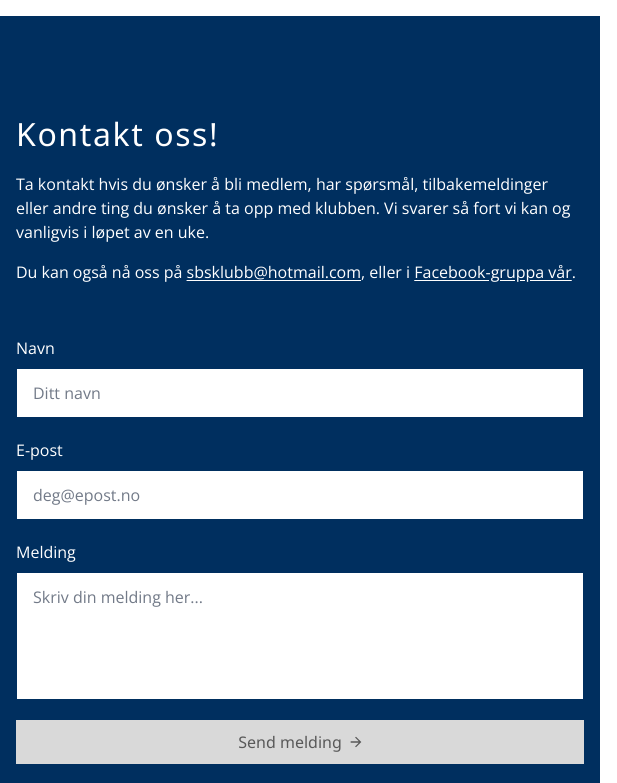
Test: ContactSection › sends the trimmed values and shows the success notice on a valid submit
This screenshot has width=617, height=783.
Type "  Ola Nordmann  " into the field with placeholder "Ditt navn" at (300, 393), box [16,368,584,418]
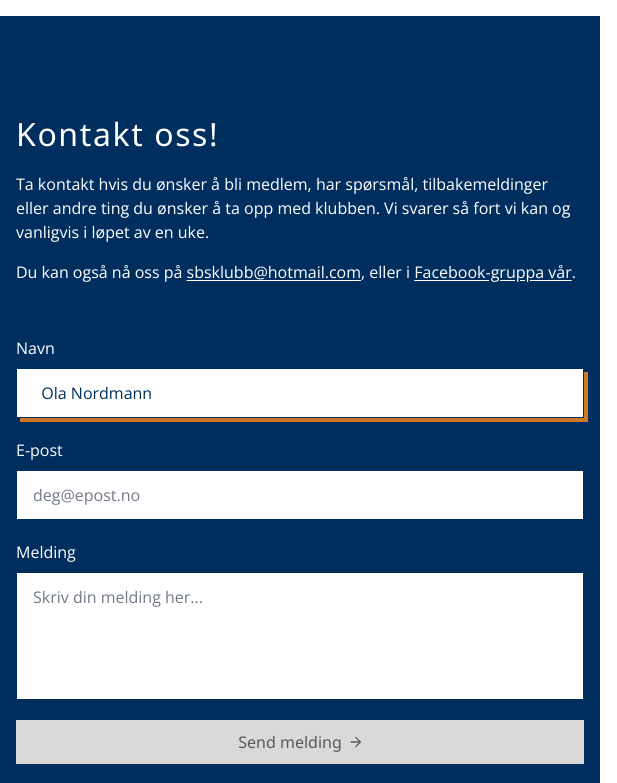
Type "ola@epost.no" into the field with placeholder "deg@epost.no" at (300, 495), box [16,470,584,520]
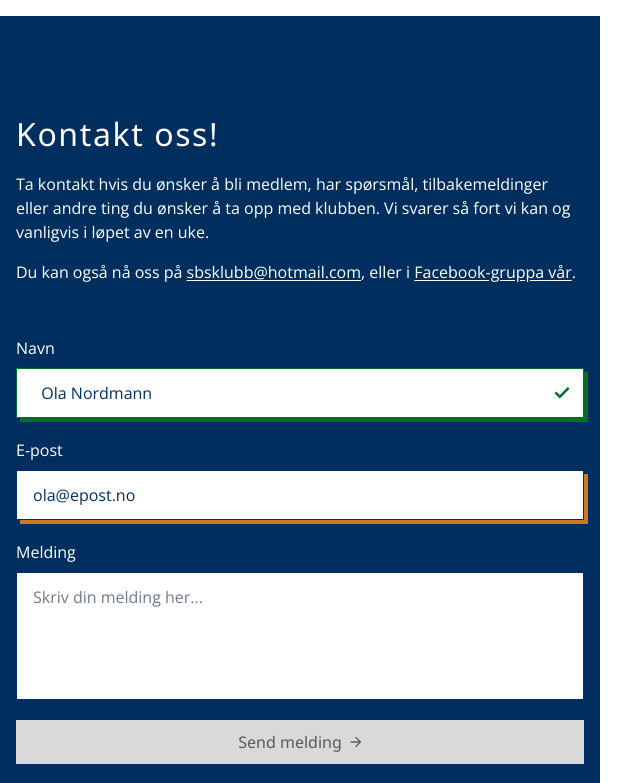
Type "Hei, jeg har et spørsmål." into the text box with placeholder "Skriv din melding her..." at (300, 636), box [16,572,584,700]
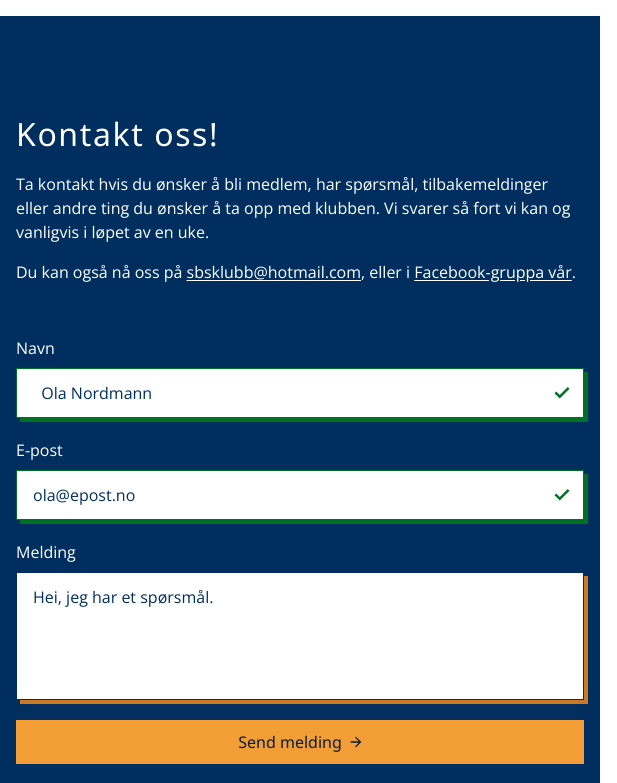
Click the button "Send melding" at (300, 742), box [16,720,584,764]
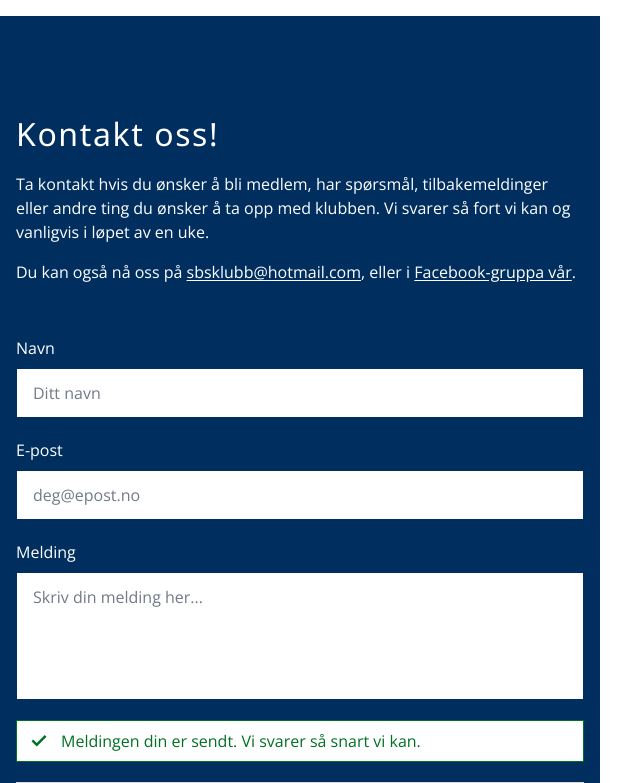
Expected: the message reads "Meldingen din er sendt. Vi svarer så snart vi kan.", [61,730,421,752]
